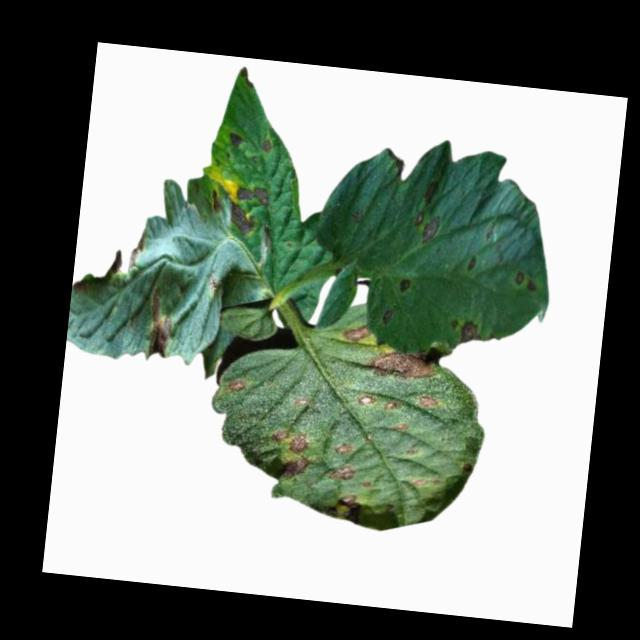Early_blight: (366, 334, 448, 384), (144, 287, 178, 363), (270, 425, 314, 456), (410, 209, 446, 245), (324, 491, 359, 523), (126, 226, 147, 275), (235, 181, 273, 208), (226, 203, 258, 235), (459, 316, 488, 345), (280, 455, 310, 482), (326, 459, 355, 483), (341, 320, 370, 343), (415, 389, 440, 411), (515, 269, 538, 292), (424, 176, 441, 205), (227, 375, 248, 396), (225, 128, 247, 148), (330, 439, 353, 457), (356, 390, 376, 408), (398, 274, 414, 294), (261, 137, 275, 153), (383, 397, 399, 411), (466, 255, 479, 270)
